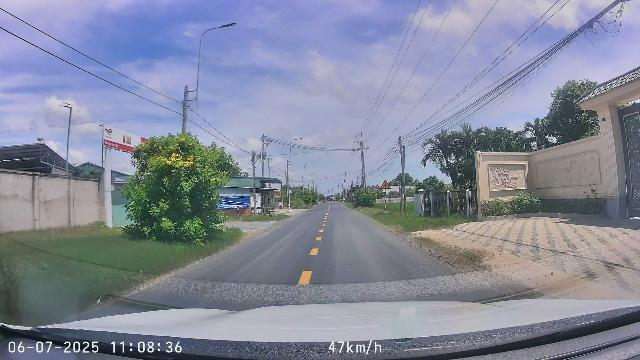207-giao-nhau-voi-duong-khong-uu-tien: (380, 179, 390, 189)
